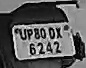0: (39, 25, 47, 41)
2: (52, 40, 64, 55), (36, 42, 45, 56)
4: (44, 41, 56, 57)
6: (25, 43, 38, 56)
8: (32, 26, 41, 40)
D: (48, 25, 56, 41)
P: (26, 29, 33, 41)
U: (18, 26, 27, 42)
X: (56, 26, 64, 40)
